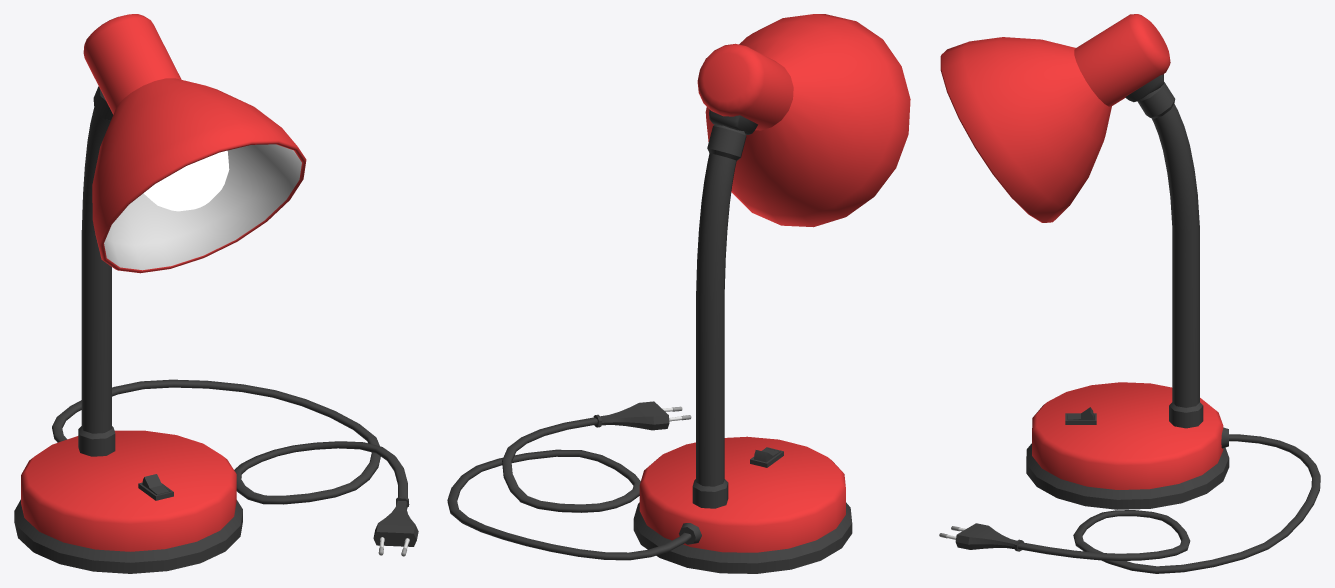
3 views of the same model, side by side, from view 1: azimuth 30°, elevation 25°; view 2: azimuth 150°, elevation 25°; view 3: azimuth 270°, elevation 25° (orthographic). The views are drawn at different scales.
Visible parts, largest first — view 1: lampara_00_02 - Default_0, lampara_00_03 - Default_0, lampara_00_04 - Default_0, enchufe_cable_00_03 - Default_0, foco_00_07 - Default_0; view 2: lampara_00_02 - Default_0, lampara_00_03 - Default_0, enchufe_cable_00_03 - Default_0; view 3: lampara_00_02 - Default_0, lampara_00_03 - Default_0, enchufe_cable_00_03 - Default_0.
Boxes of the visible parts, bbox=[...] form: lampara_00_02 - Default_0: bbox=[21, 14, 306, 551]; lampara_00_03 - Default_0: bbox=[14, 86, 242, 573]; lampara_00_04 - Default_0: bbox=[104, 144, 301, 270]; enchufe_cable_00_03 - Default_0: bbox=[52, 379, 418, 546]; foco_00_07 - Default_0: bbox=[143, 150, 229, 211]; lampara_00_02 - Default_0: bbox=[639, 14, 910, 552]; lampara_00_03 - Default_0: bbox=[633, 109, 852, 573]; enchufe_cable_00_03 - Default_0: bbox=[447, 401, 691, 560]; lampara_00_02 - Default_0: bbox=[940, 14, 1223, 489]; lampara_00_03 - Default_0: bbox=[1026, 74, 1229, 509]; enchufe_cable_00_03 - Default_0: bbox=[955, 434, 1320, 573].
Size of the model in its own units: 29.17 by 38.83 by 29.85.
